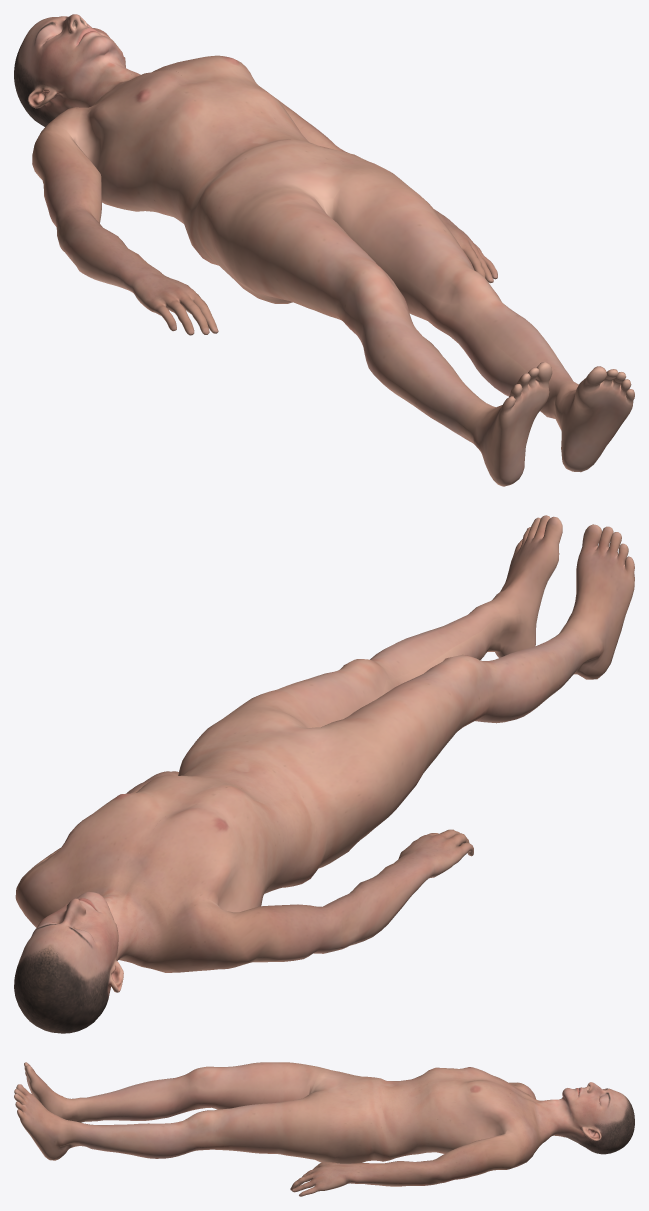
The model's file is Cut.fbx.
3 views of the same model, one above another, from view 1: azimuth 30°, elevation 25°; view 2: azimuth 150°, elevation 25°; view 3: azimuth 270°, elevation 25° (orthographic). The views are drawn at different scales.
Visible parts, largest first — view 1: Body; view 2: Body; view 3: Body.
Part boxes in pixels (<box>): Body: <box>14,14,634,486</box>; Body: <box>14,515,634,1033</box>; Body: <box>14,1062,634,1196</box>.
Size of the model in its own units: 64.25 by 26.97 by 186.
2 materials, 1 textured.
